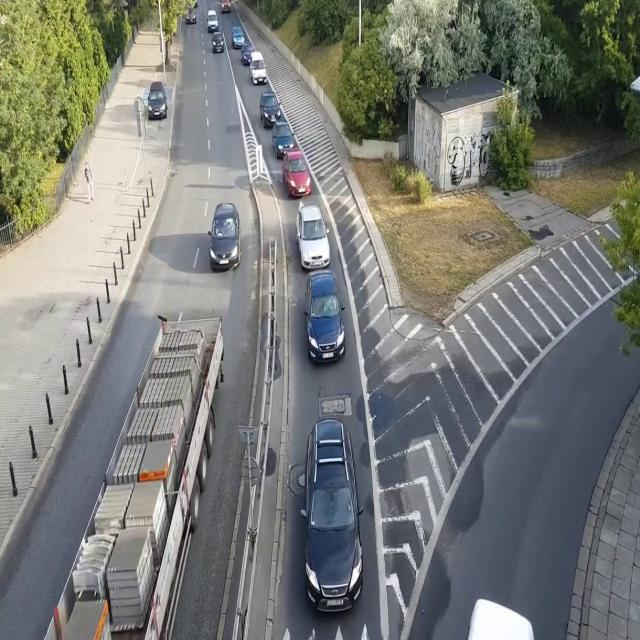car: (298, 419, 365, 618), (303, 270, 346, 364), (207, 200, 242, 271), (295, 205, 332, 272), (281, 148, 313, 198), (272, 119, 296, 159), (259, 91, 283, 130), (146, 80, 168, 121), (231, 23, 246, 50), (240, 41, 256, 66), (212, 31, 224, 55), (185, 8, 197, 26), (219, 0, 232, 14), (188, 0, 198, 7)
truck: (30, 311, 226, 640)
van: (456, 597, 538, 640), (207, 10, 220, 32)
